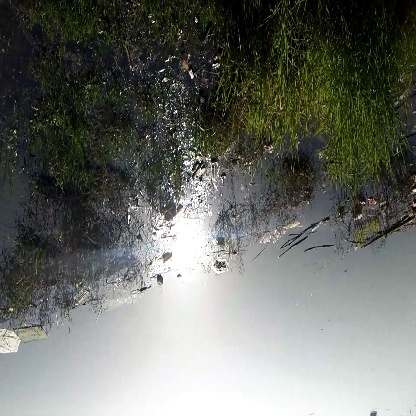branch: (359, 211, 416, 259), (277, 214, 332, 257)
